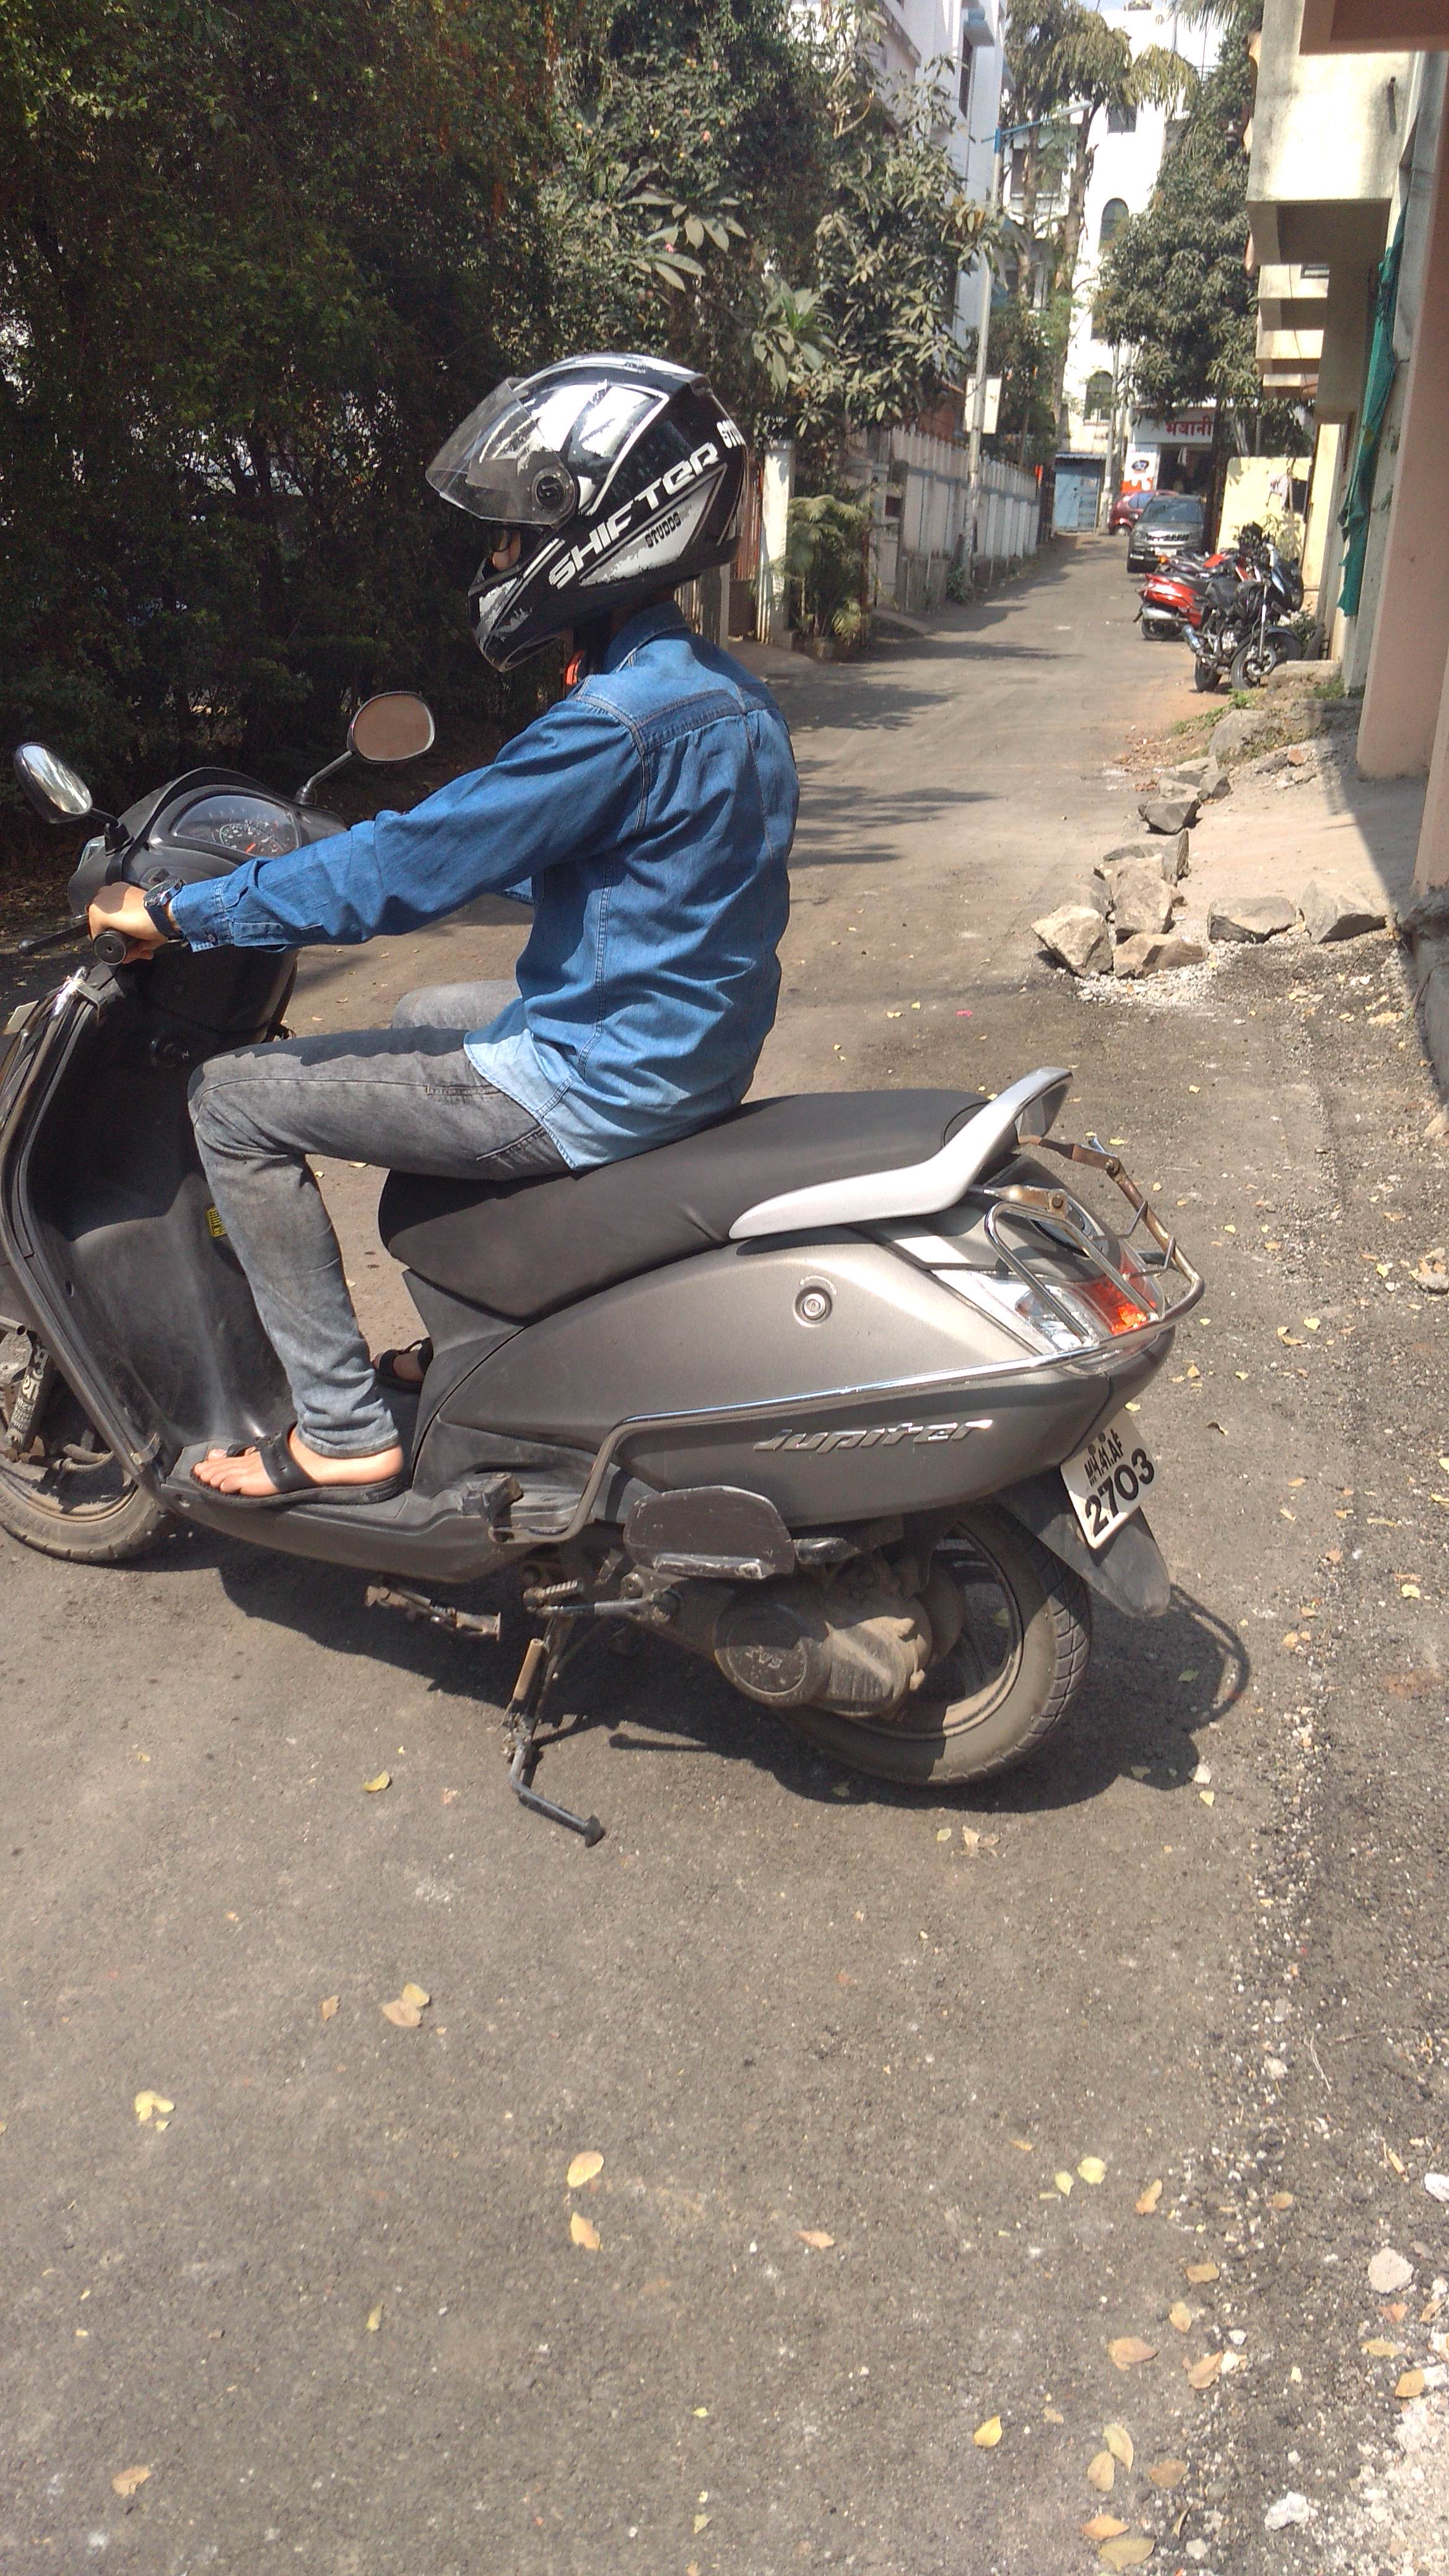helmet: (329, 326, 844, 1217)
